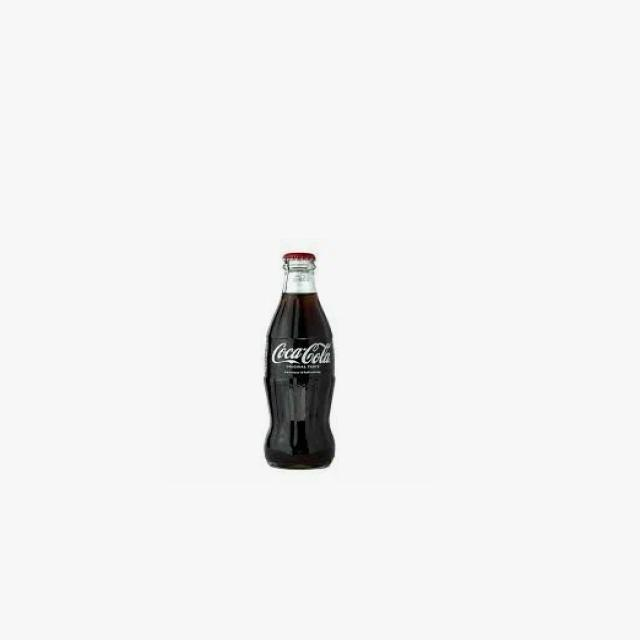supermarket-product: (265, 263, 346, 386)
